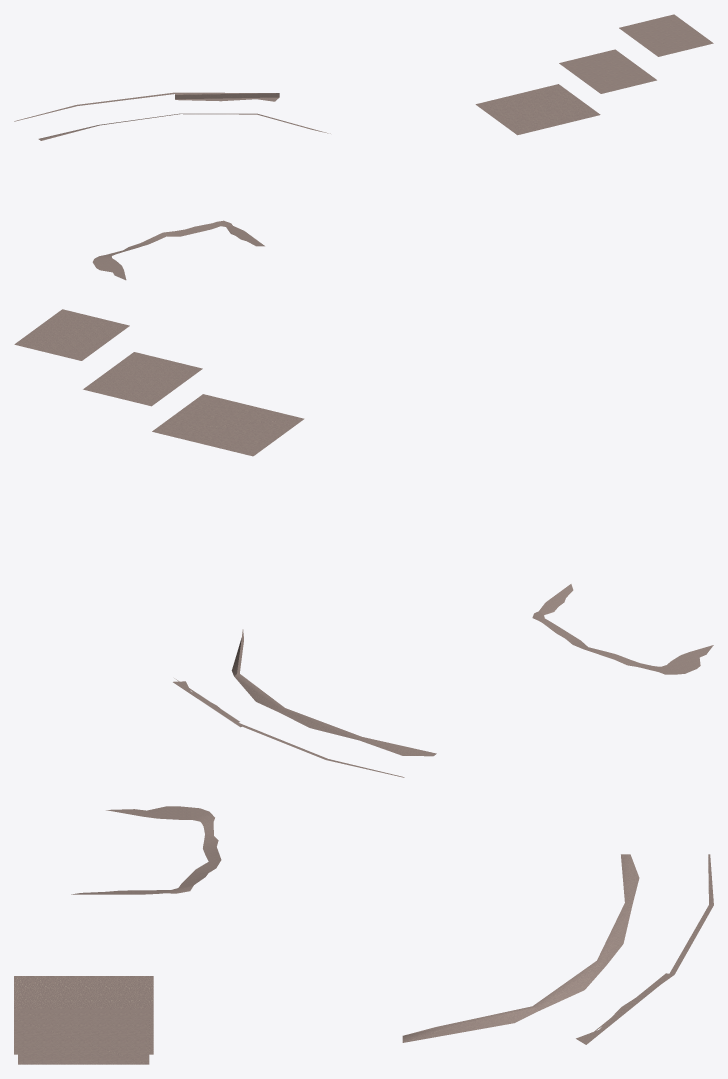
File: kd_stage_135ebf_1_2.glb
The picture shows the model from 3 angles, top to bottom: view 1: azimuth 30°, elevation 25°; view 2: azimuth 150°, elevation 25°; view 3: azimuth 270°, elevation 25°; orthographic projection. The views are drawn at different scales.
Parts seen in each view (by area): view 1: kd_stage_135ebf_1_2; view 2: kd_stage_135ebf_1_2; view 3: kd_stage_135ebf_1_2.
Boxes of the visible parts, x1,y1,x2,y2 form: kd_stage_135ebf_1_2: [14, 14, 713, 280]; kd_stage_135ebf_1_2: [14, 309, 713, 777]; kd_stage_135ebf_1_2: [14, 806, 713, 1064].
Bounding box in the file's own units: 54.43 × 11.06 × 35.12.
1 material, 1 textured.
